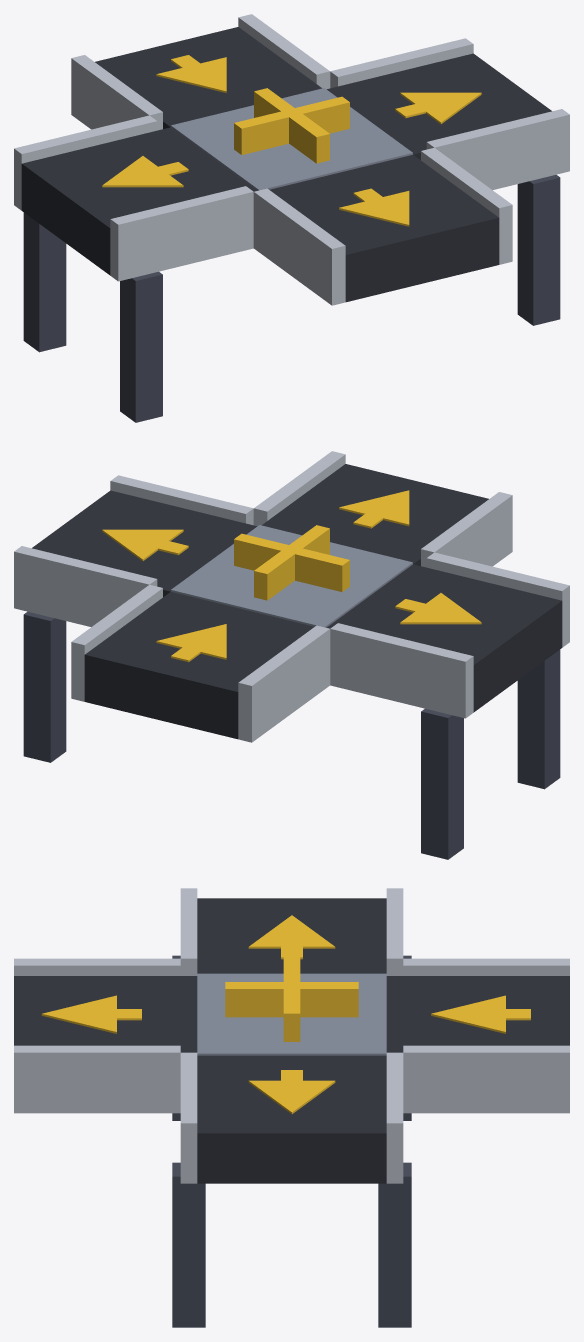
File: conveyor-cross.glb
3 views of the same model, one above another, from view 1: azimuth 30°, elevation 25°; view 2: azimuth 150°, elevation 25°; view 3: azimuth 270°, elevation 25° (orthographic). The views are drawn at different scales.
Parts seen in each view (by area): view 1: conveyor-cross; view 2: conveyor-cross; view 3: conveyor-cross.
Part boxes in pixels (x1,y1,x2,y2): conveyor-cross: (14,14,569,422); conveyor-cross: (14,451,569,859); conveyor-cross: (14,888,569,1327).
Size of the model in its own units: 1 by 0.46 by 1.
1 material, 1 textured.
